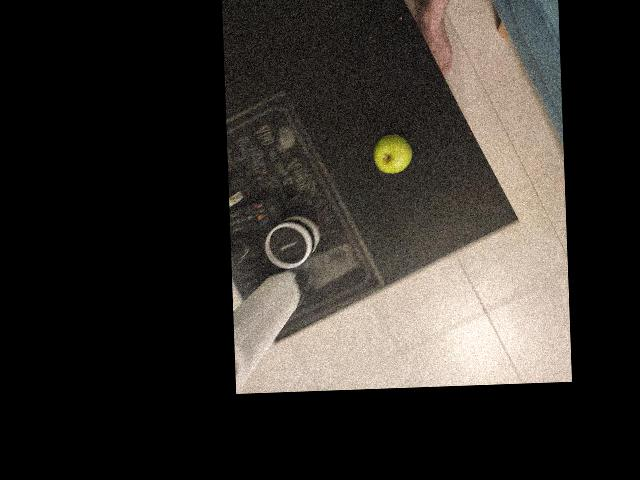apple: (440, 179, 499, 240)
